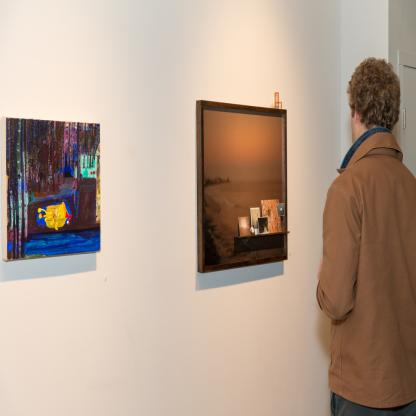Picture-frame: (195, 98, 289, 274)
